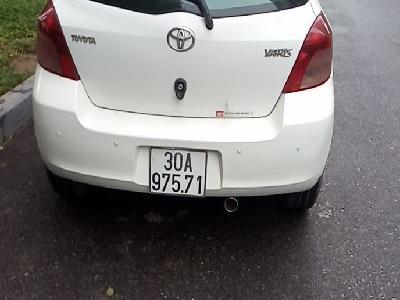car: (149, 146, 208, 199)
